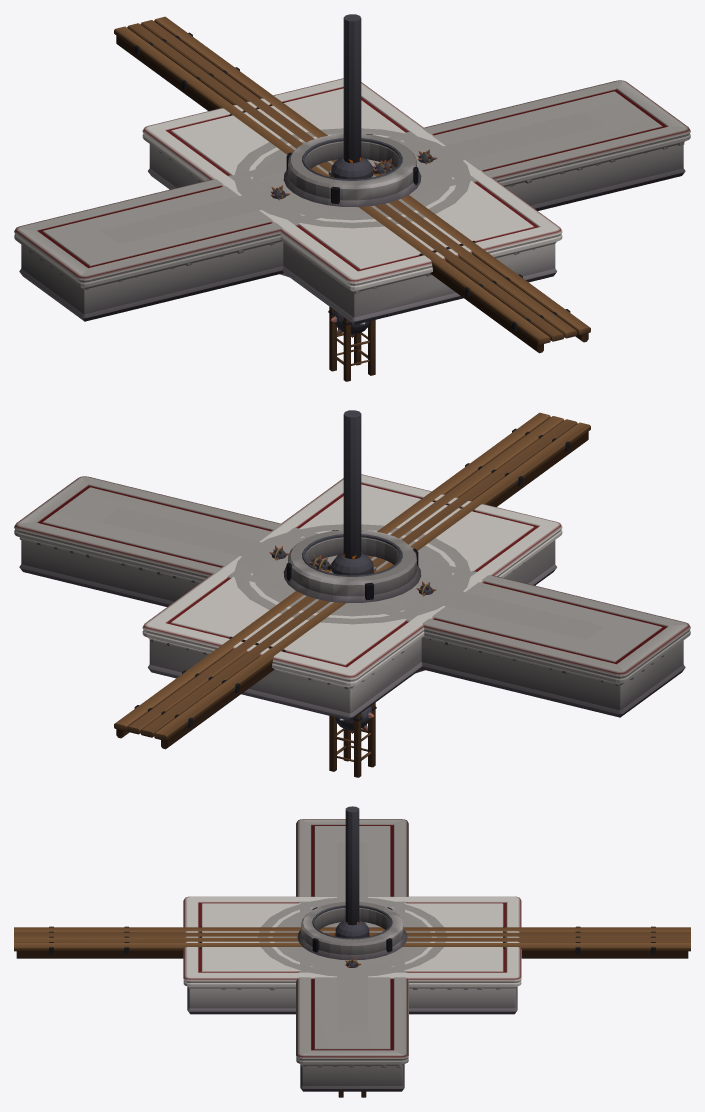
Rendered from fortress-5-FCCaUidZ.glb.
3 renders of one model, top to bottom at view 1: azimuth 30°, elevation 25°; view 2: azimuth 150°, elevation 25°; view 3: azimuth 270°, elevation 25°, orthographic. The views are drawn at different scales.
Parts seen in each view (by area): view 1: block_40x2x8#0, block_14x2x24#0, block_3.5x2x48_plank#0, geyserVent_5.4#0, block_32x2x2.5_grate#0, disc_14x1.5#0, block_12x2x8#0, press_6x6x2#0, truss_11.8#0, barHub_4.5x1.2#0; view 2: block_40x2x8#0, block_14x2x24#0, block_3.5x2x48_plank#0, geyserVent_5.4#0, block_32x2x2.5_grate#0, disc_14x1.5#0, block_12x2x8#0, press_6x6x2#0, truss_11.8#0, barHub_4.5x1.2#0; view 3: block_14x2x24#0, block_40x2x8#0, block_3.5x2x48_plank#0, geyserVent_5.4#0, disc_14x1.5#0, block_32x2x2.5_grate#0, block_12x2x8#0, press_6x6x2#0, barHub_4.5x1.2#0.
Boxes of the visible parts, x1,y1,x2,y2 form: block_40x2x8#0: (14, 80, 690, 321); block_14x2x24#0: (142, 78, 562, 324); block_3.5x2x48_plank#0: (114, 16, 590, 353); geyserVent_5.4#0: (283, 133, 421, 207); block_32x2x2.5_grate#0: (101, 112, 603, 243); disc_14x1.5#0: (233, 128, 471, 276); block_12x2x8#0: (233, 133, 471, 222); press_6x6x2#0: (343, 14, 361, 162); truss_11.8#0: (328, 170, 375, 381); barHub_4.5x1.2#0: (329, 156, 377, 179); block_40x2x8#0: (14, 476, 690, 717); block_14x2x24#0: (142, 474, 562, 720); block_3.5x2x48_plank#0: (114, 412, 590, 749); geyserVent_5.4#0: (283, 529, 421, 603); block_32x2x2.5_grate#0: (101, 508, 603, 639); disc_14x1.5#0: (233, 524, 471, 672); block_12x2x8#0: (233, 529, 471, 618); press_6x6x2#0: (343, 410, 361, 558); truss_11.8#0: (329, 566, 376, 777); barHub_4.5x1.2#0: (327, 552, 375, 575); block_14x2x24#0: (183, 896, 521, 1014); block_40x2x8#0: (296, 819, 408, 1091); block_3.5x2x48_plank#0: (14, 926, 690, 958); geyserVent_5.4#0: (297, 902, 407, 960); disc_14x1.5#0: (257, 898, 447, 976); block_32x2x2.5_grate#0: (337, 842, 367, 1031); block_12x2x8#0: (300, 903, 404, 971); press_6x6x2#0: (345, 806, 359, 925); barHub_4.5x1.2#0: (333, 920, 371, 938).
Bounding box in the file's own units: 40 × 22.1 × 48.
